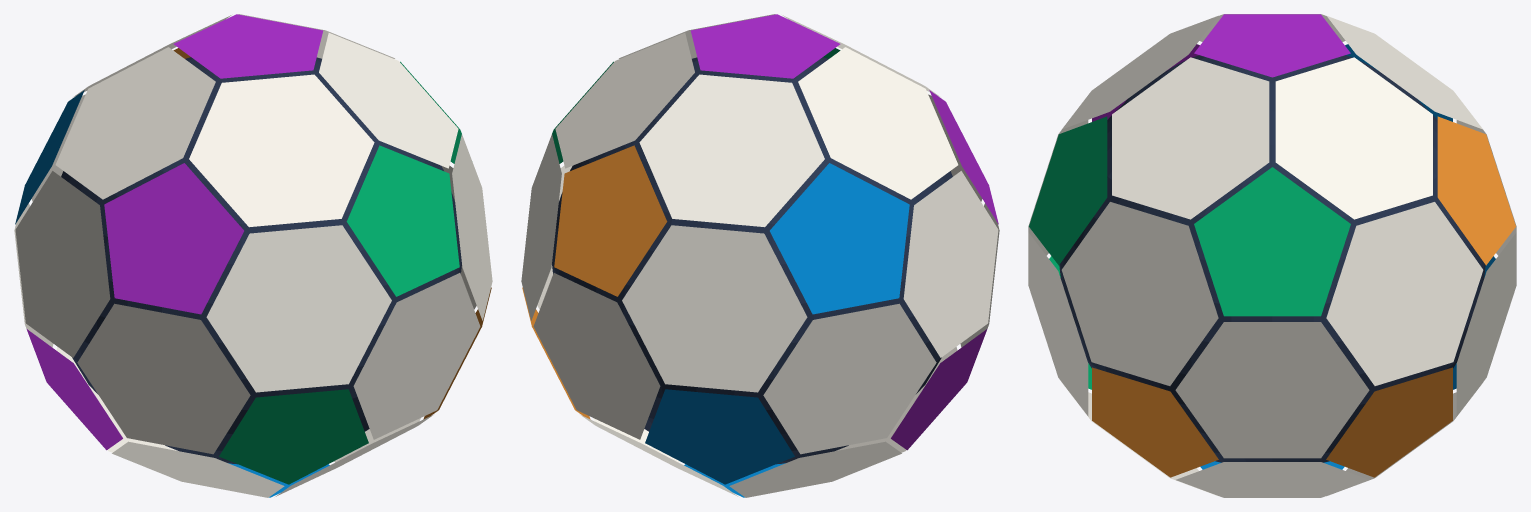
File: ball.glb
3 renders of one model, left to right at view 1: azimuth 30°, elevation 25°; view 2: azimuth 150°, elevation 25°; view 3: azimuth 270°, elevation 25°, orthographic. The views are drawn at different scales.
Parts seen in each view (by area): view 1: Panel11, Panel16, Panel7, Panel27, Panel17, Panel12, Panel6, Panel26, Seams, Panel22, Panel15, Panel31 (+6 smaller); view 2: Panel13, Panel18, Panel8, Panel28, Panel17, Panel12, Panel9, Panel29, Seams, Panel24, Panel19, Panel31 (+6 smaller); view 3: Panel5, Panel10, Panel14, Panel15, Panel19, Panel30, Seams, Panel21, Panel25, Panel26, Panel29, Panel31 (+5 smaller).
Boxes of the visible parts, box(x1,y1,x2,y2) form: Panel11: box(206, 225, 391, 392); Panel16: box(189, 74, 374, 227); Panel7: box(77, 303, 250, 454); Panel27: box(104, 163, 243, 314); Panel17: box(55, 47, 215, 199); Panel12: box(15, 171, 110, 357); Panel6: box(353, 273, 480, 439); Panel26: box(346, 145, 459, 296); Seams: box(61, 57, 461, 464); Panel22: box(219, 389, 368, 484); Panel15: box(319, 33, 458, 168); Panel31: box(173, 14, 323, 78); Panel13: box(622, 225, 807, 392); Panel18: box(639, 74, 824, 227); Panel8: box(763, 303, 936, 454); Panel28: box(770, 163, 909, 314); Panel17: box(798, 47, 958, 199); Panel12: box(903, 171, 998, 357); Panel9: box(533, 273, 660, 439); Panel29: box(554, 145, 667, 296); Seams: box(552, 57, 952, 464); Panel24: box(645, 389, 794, 484); Panel19: box(555, 33, 694, 168); Panel31: box(690, 14, 840, 78); Panel5: box(1175, 322, 1369, 458); Panel10: box(1061, 202, 1218, 385); Panel14: box(1326, 202, 1483, 385); Panel15: box(1112, 57, 1269, 219); Panel19: box(1275, 57, 1432, 219); Panel30: box(1194, 167, 1350, 316); Seams: box(1059, 55, 1485, 462); Panel21: box(1092, 367, 1218, 477); Panel25: box(1326, 367, 1452, 477); Panel26: box(1029, 116, 1107, 265); Panel29: box(1437, 116, 1515, 265); Panel31: box(1194, 14, 1350, 77).
Bounding box in the file's own units: 0.2116 × 0.2066 × 0.2144.
